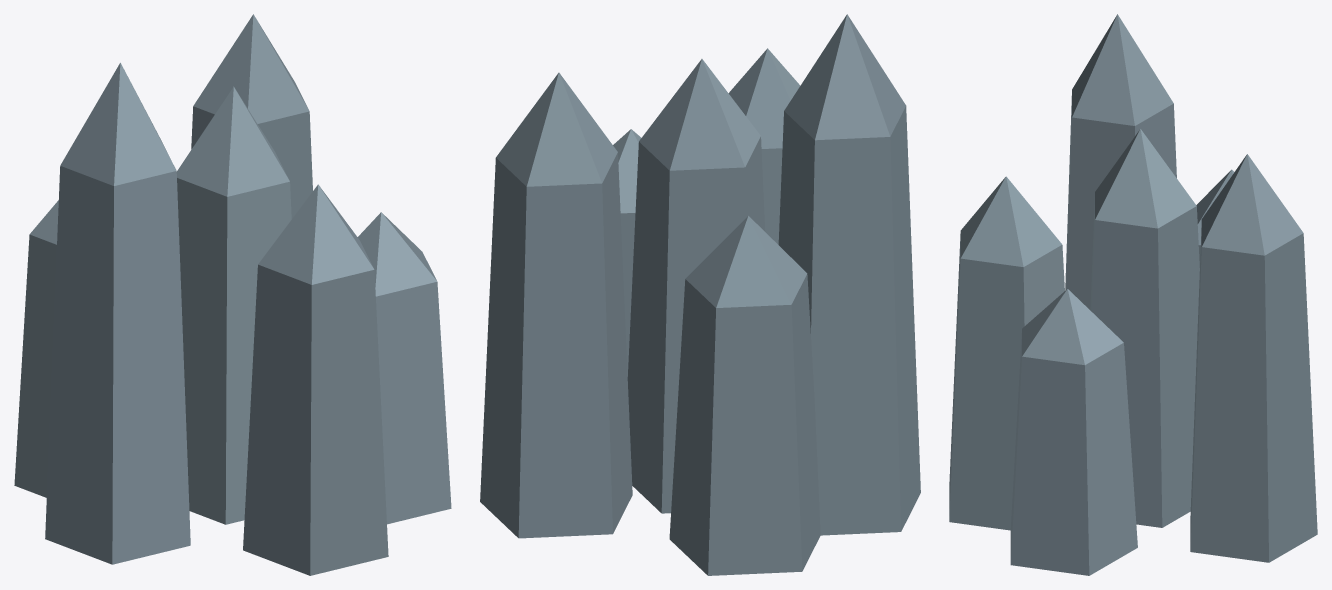
Rendered from glacier-icicles-2.glb.
3 renders of one model, left to right at view 1: azimuth 30°, elevation 25°; view 2: azimuth 150°, elevation 25°; view 3: azimuth 270°, elevation 25°, orthographic. The views are drawn at different scales.
Visible parts, largest first — view 1: glacier-icicles-2; view 2: glacier-icicles-2; view 3: glacier-icicles-2.
Boxes of the visible parts, x1,y1,x2,y2 form: glacier-icicles-2: (14, 14, 451, 575); glacier-icicles-2: (480, 14, 920, 575); glacier-icicles-2: (949, 14, 1317, 575).
Size of the model in its own units: 0.6484 by 0.8083 by 0.6284.
